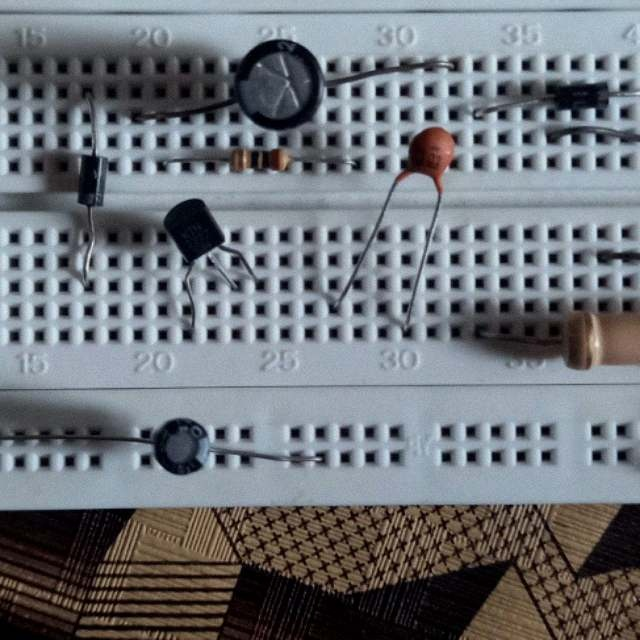capacitor: (238, 40, 324, 133), (147, 420, 209, 475), (407, 128, 456, 178)
resistor: (234, 151, 290, 172)
